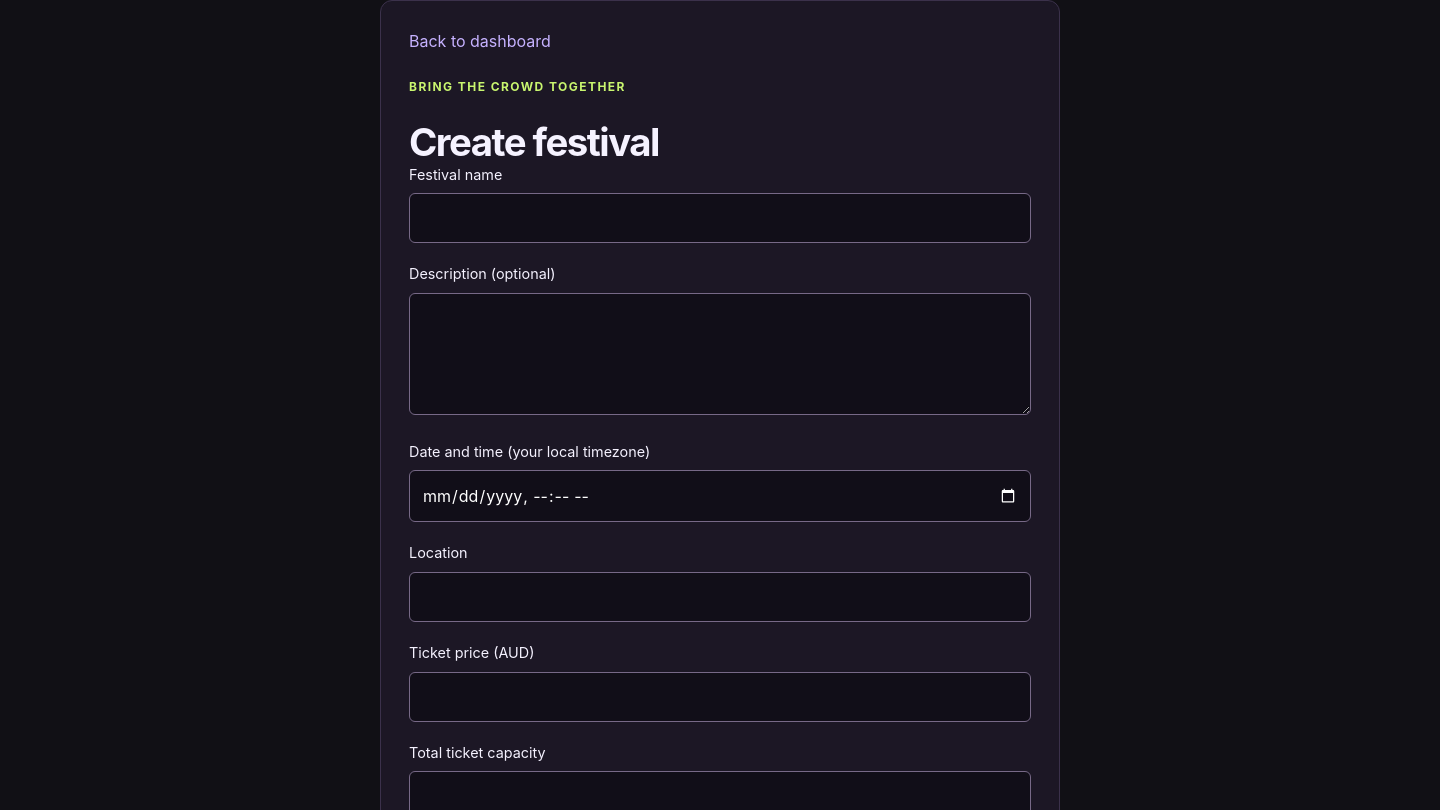
creates an event with numeric values and UTC date then shows success after persistence
The width and height of the screenshot is (1440, 810).
Later steps or results of the test are not shown.
Type "River Sounds" into the field with id "name" at (720, 218), box [409,193,1031,243]
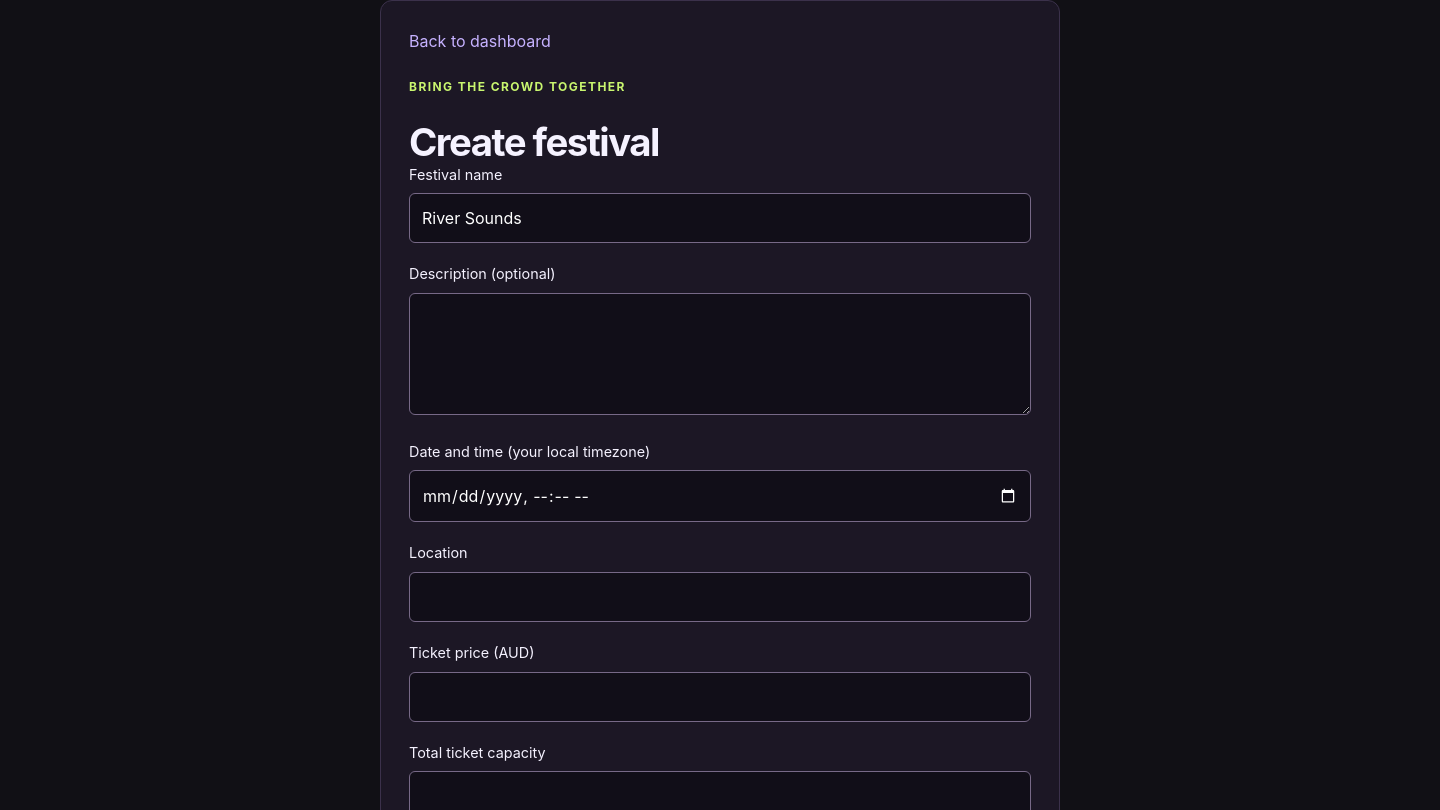
Type "Perth" into the field labelled "Location" at (720, 597), box [409,572,1031,622]
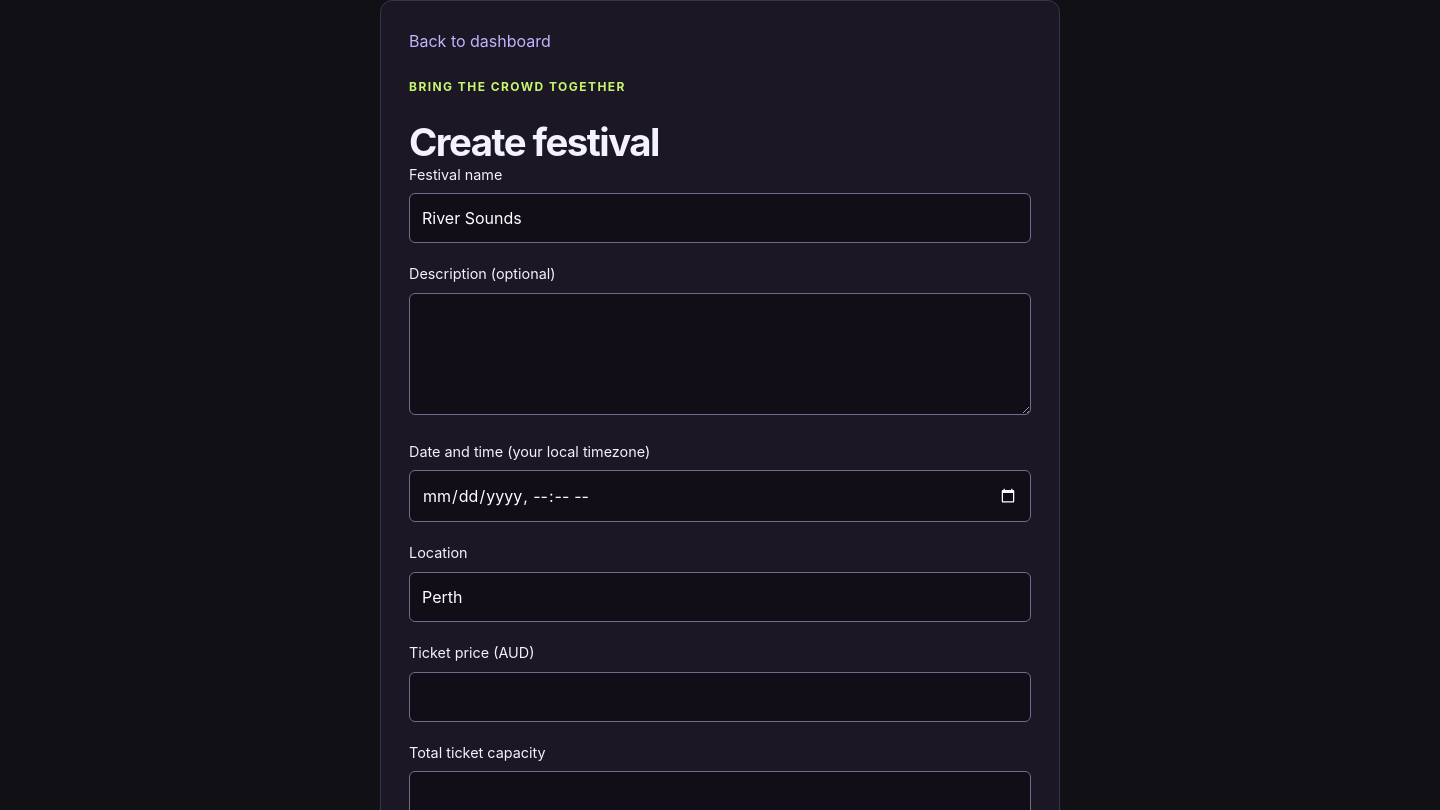
Type "2099-12-10T18:00" into the field labelled "Date and time (your local timezone)" at (720, 496), box [409,470,1031,522]
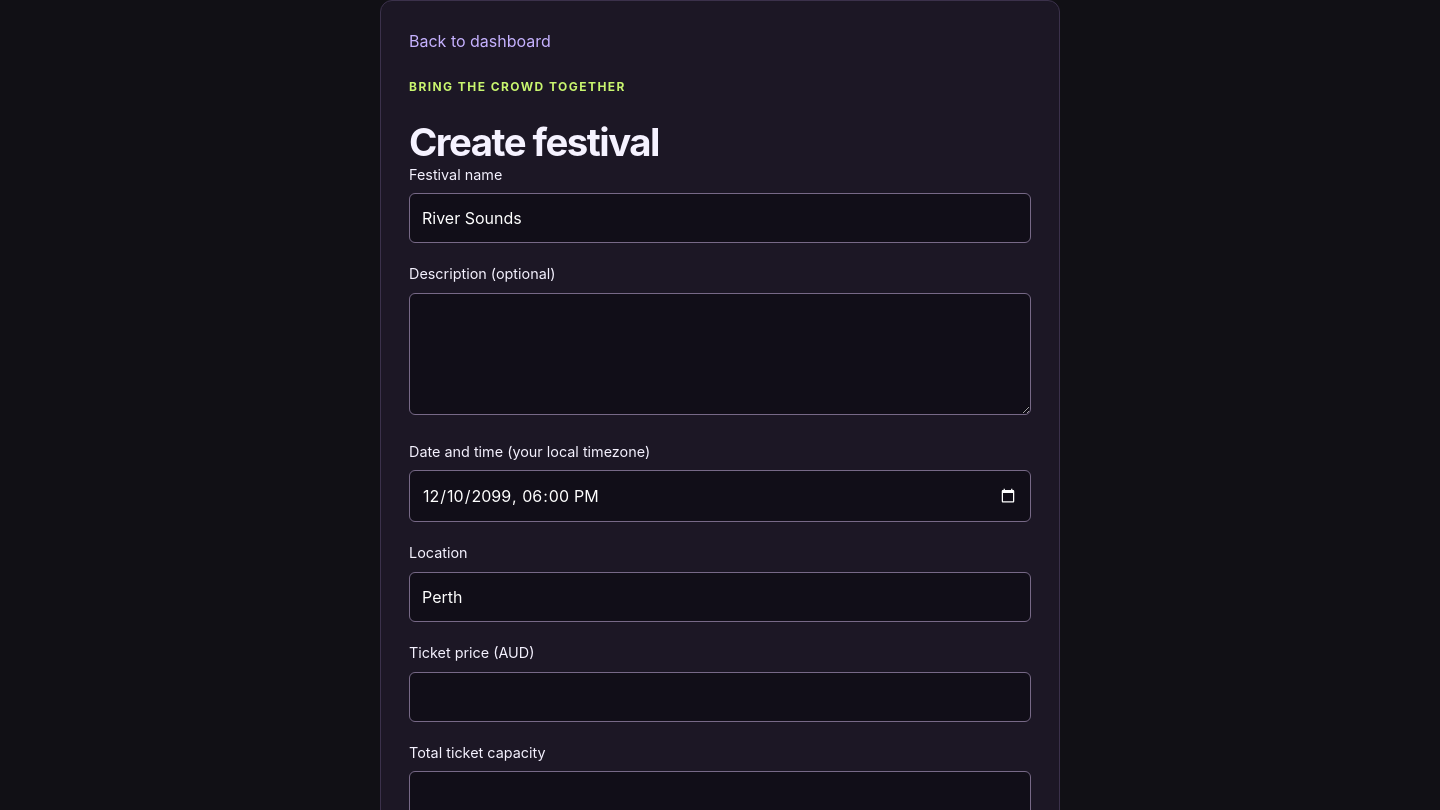
Type "25" into the number field labelled "Ticket price (AUD)" at (720, 697), box [409,672,1031,722]
(page scrolled)
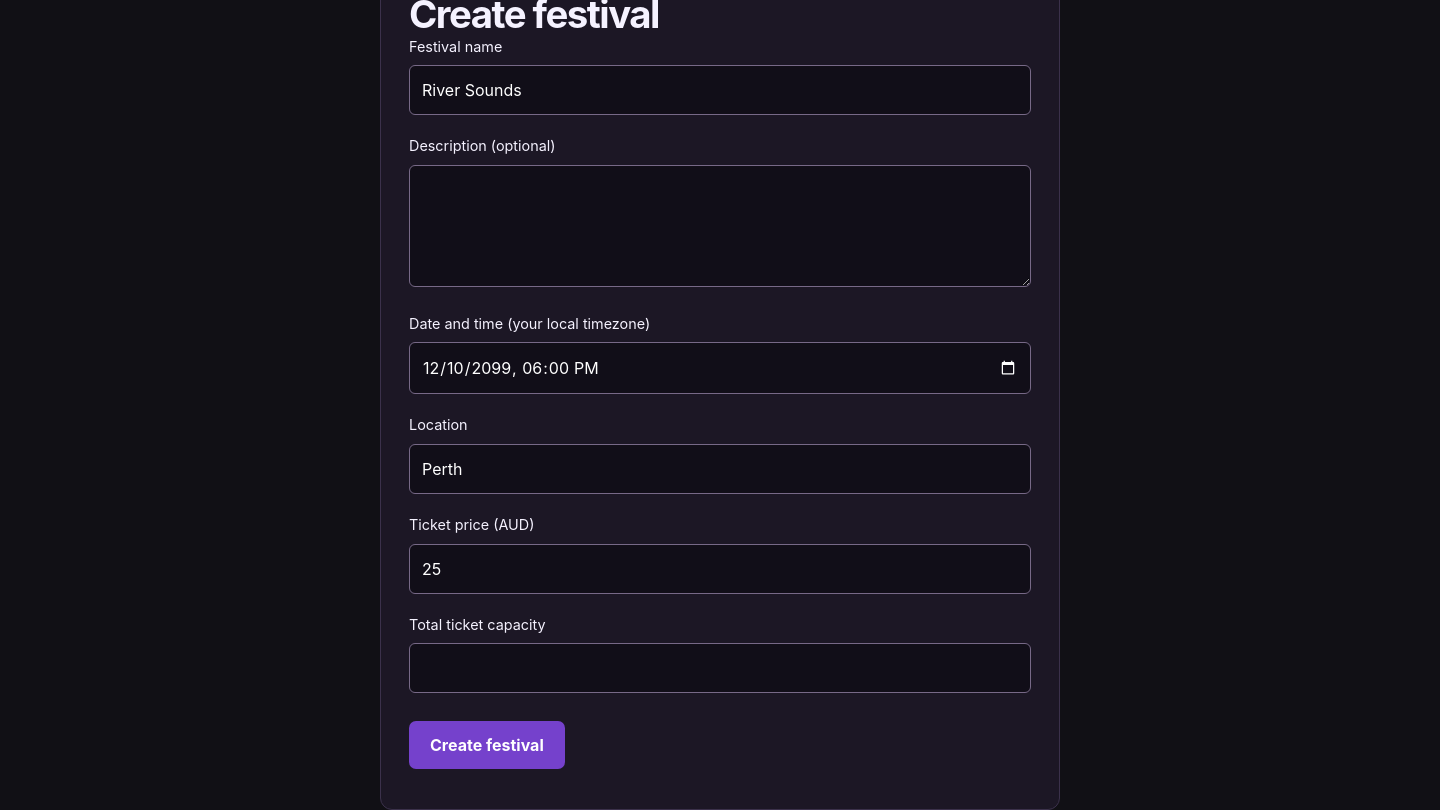
Type "10" into the number field with id "capacity" at (720, 668), box [409,643,1031,693]
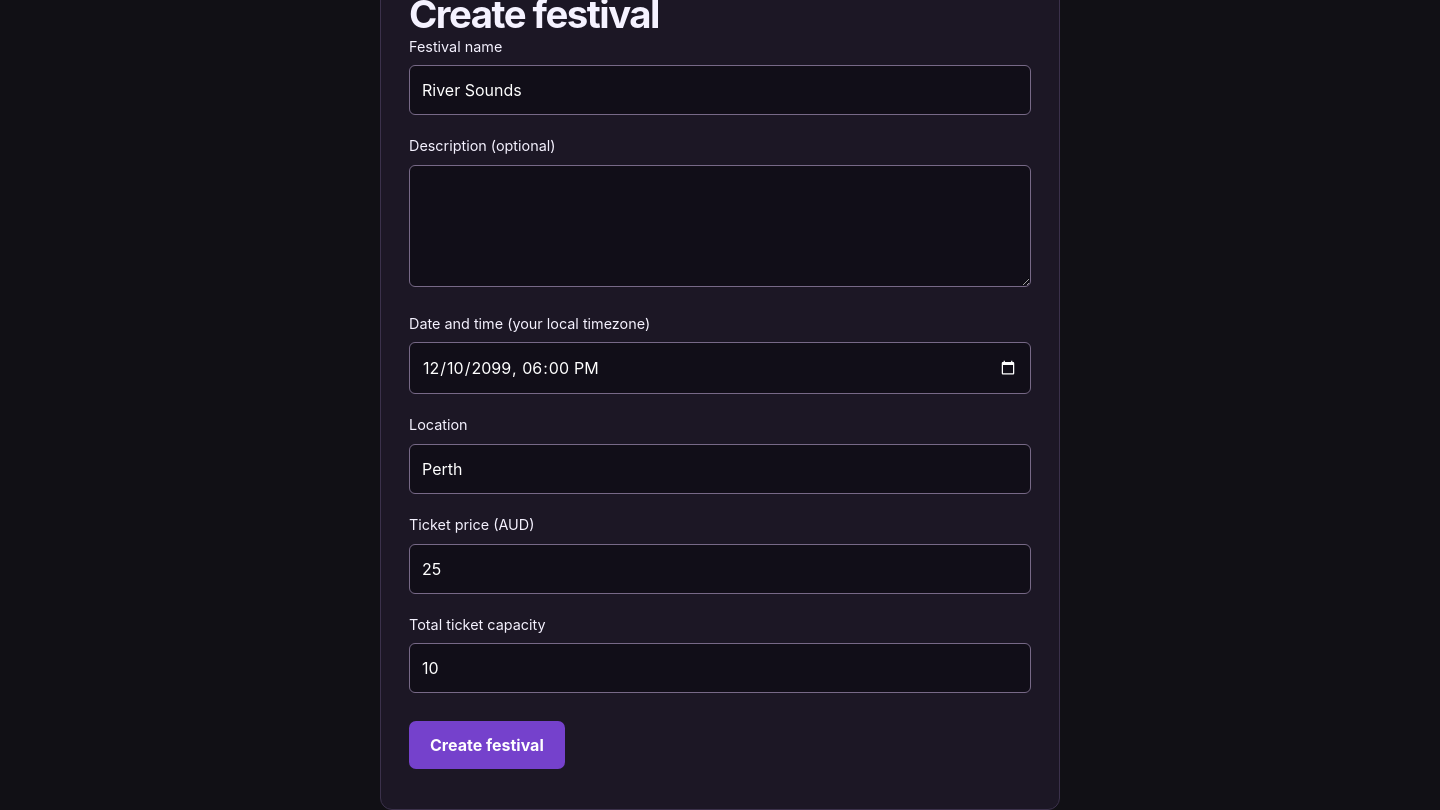
Submit the form, box [409,36,1031,781]
(page scrolled)
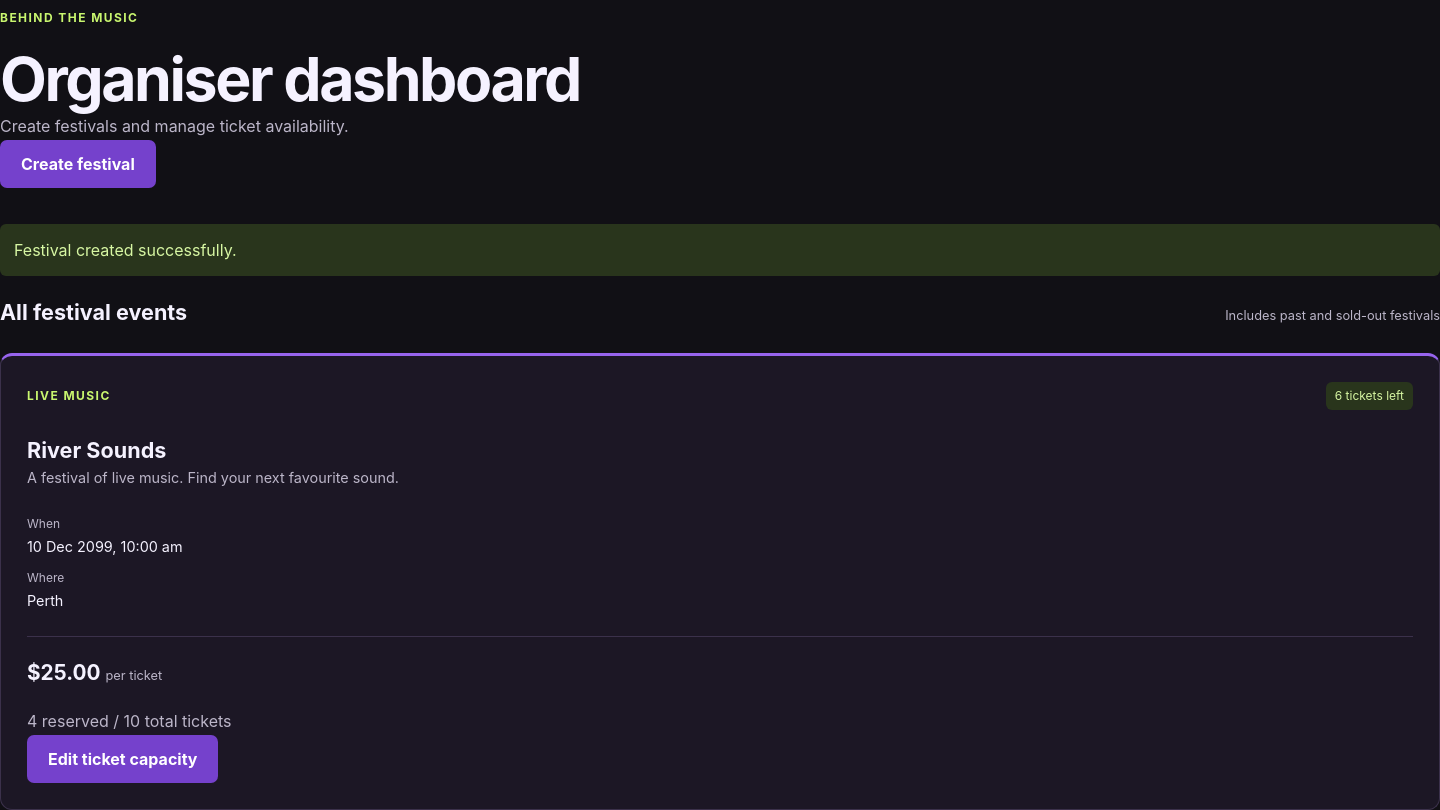
Expected: the text "Festival created successfully" is shown, [14,240,237,260]
Expected: the heading "Organiser dashboard" is shown, [0,42,580,116]
